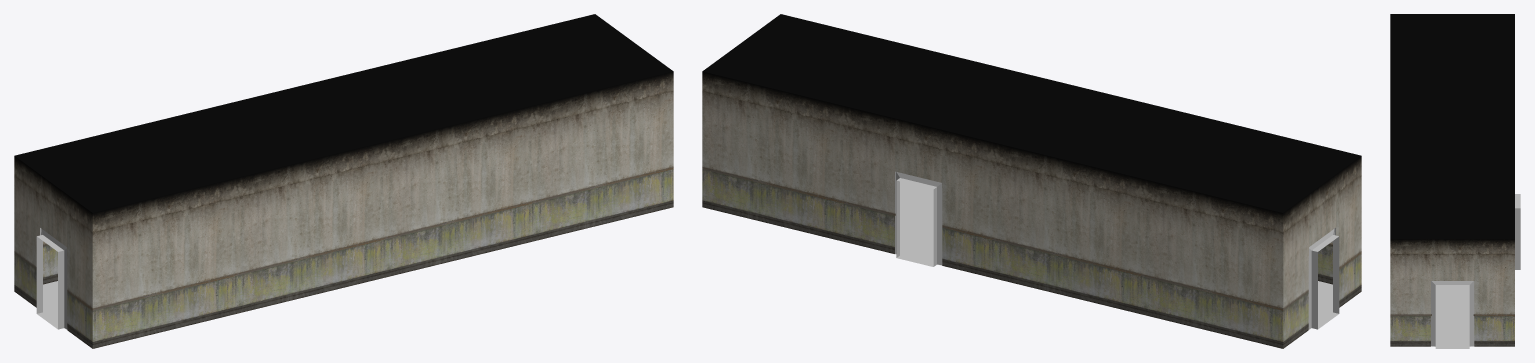
The model's file is hallway4x.FBX.
3 renders of one model, left to right at view 1: azimuth 30°, elevation 25°; view 2: azimuth 150°, elevation 25°; view 3: azimuth 270°, elevation 25°, orthographic. The views are drawn at different scales.
Parts seen in each view (by area): view 1: Hall4x; view 2: Hall4x; view 3: Hall4x.
Part boxes in pixels (x1,y1,x2,y2): Hall4x: (14, 14, 673, 348); Hall4x: (702, 14, 1361, 348); Hall4x: (1390, 14, 1520, 348).
Size of what is drawn, in the model's own units: 1890 by 413 by 453.
